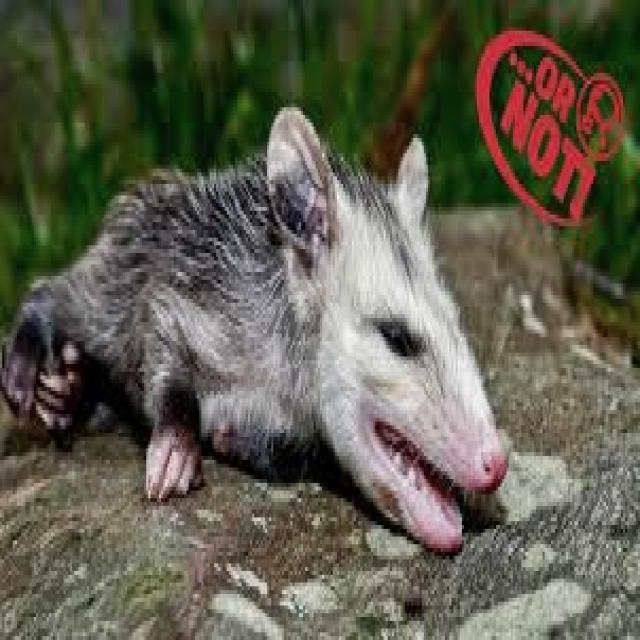possum: (0, 107, 506, 548)
